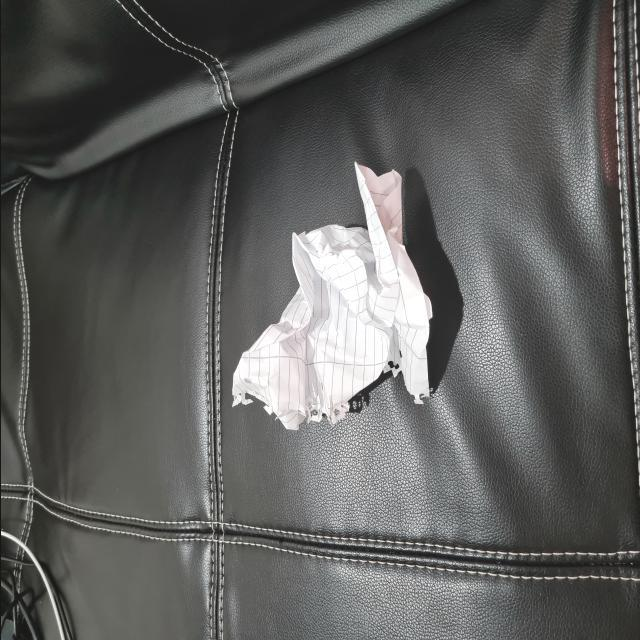Paper: (216, 209, 447, 422)
